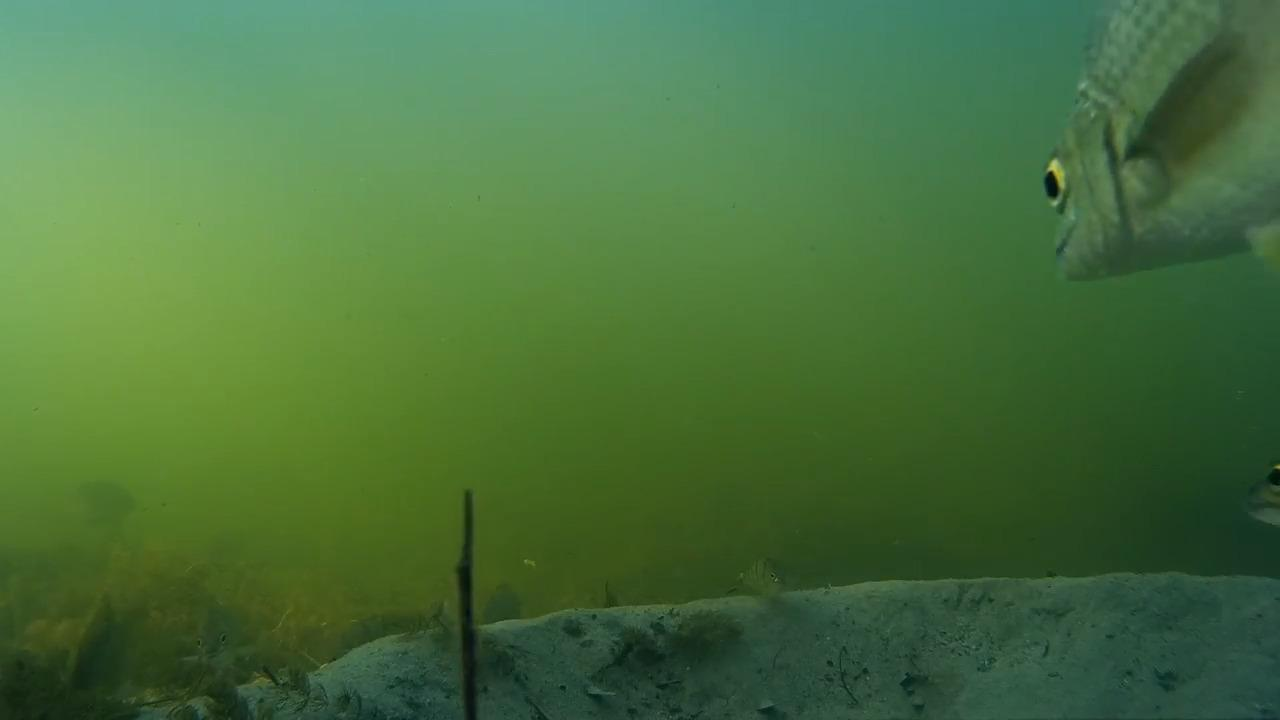Tilapia: (1052, 16, 1279, 297)
